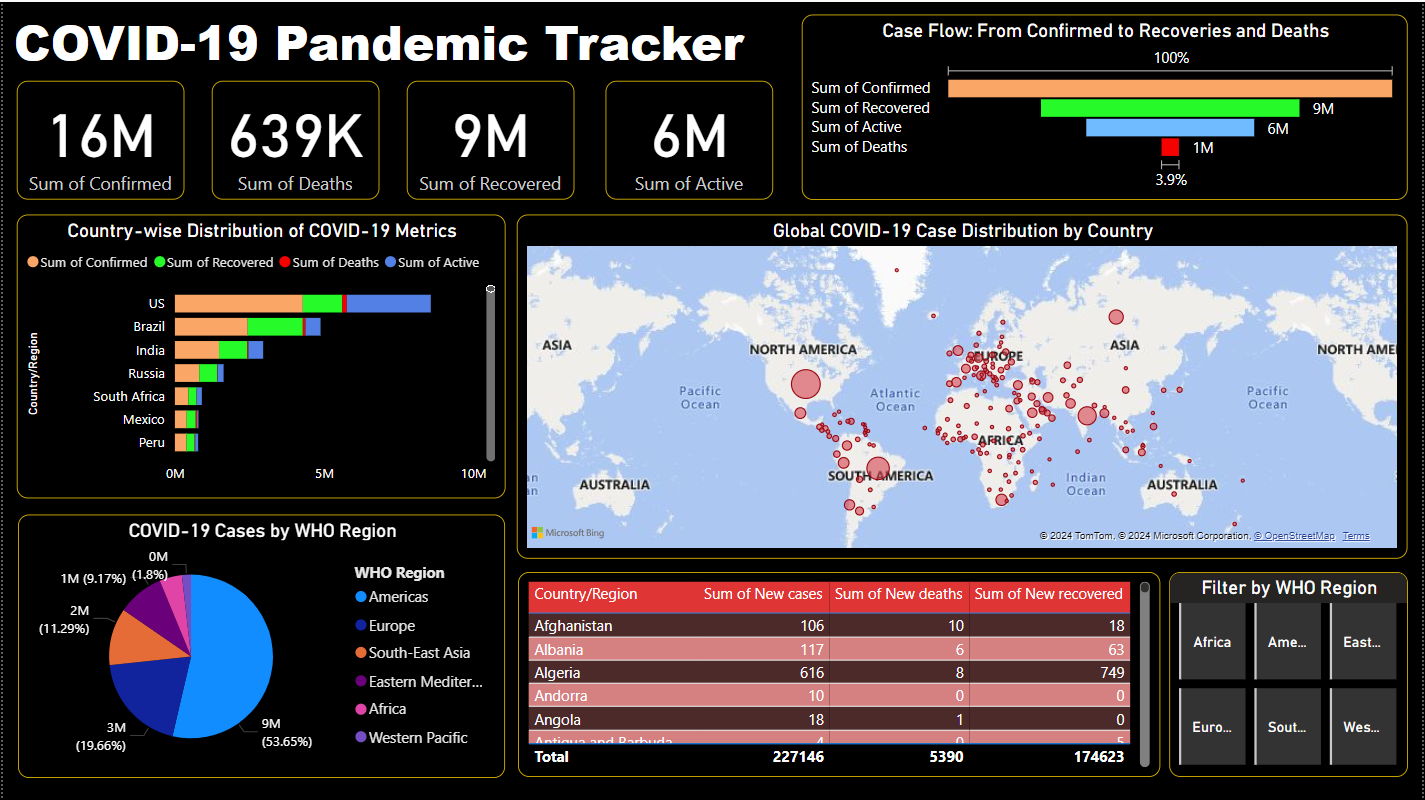

The dashboard page shown, as its layout file describes it:
{"tool":"powerbi","page":{"name":"Page 1","canvas":[1280,720],"ordinal":0},"visuals":[{"type":"textbox","box":[0,0,677.4,70.9],"z":0},{"type":"card","fields":{"Values":["Sum(country_wise_latest.Confirmed)"]},"box":[12.5,71.1,150.8,107.2],"z":1000},{"type":"card","fields":{"Values":["Sum(country_wise_latest.Deaths)"]},"box":[188.2,71.1,150.8,107.2],"z":2000},{"type":"card","fields":{"Values":["Sum(country_wise_latest.Recovered)"]},"box":[364,71.1,150.8,107.2],"z":3000},{"type":"card","fields":{"Values":["Sum(country_wise_latest.Active)"]},"box":[543.5,71.1,150.8,107.2],"z":4000},{"type":"map","title":"Global COVID-19 Case Distribution by Country","fields":{"Category":["country_wise_latest.Country/Region"],"Size":["Sum(country_wise_latest.Confirmed)"]},"box":[463.5,192,803.4,310.6],"z":5000},{"type":"barChart","title":"Country-wise Distribution of COVID-19 Metrics","fields":{"Category":["country_wise_latest.Country/Region"],"Y":["Sum(country_wise_latest.Confirmed)","Sum(country_wise_latest.Recovered)","Sum(country_wise_latest.Deaths)","Sum(country_wise_latest.Active)"]},"box":[12.8,191.9,440.7,255.8],"z":6000},{"type":"pieChart","title":"COVID-19 Cases by WHO Region","fields":{"Category":["country_wise_latest.WHO Region"],"Y":["Sum(country_wise_latest.Confirmed)"]},"box":[14,461.6,439.5,237.2],"z":7000},{"type":"tableEx","fields":{"Values":["country_wise_latest.Country/Region","Sum(country_wise_latest.New cases)","Sum(country_wise_latest.New deaths)","Sum(country_wise_latest.New recovered)"]},"box":[464,514,579.1,184.9],"z":8000},{"type":"funnel","title":"Case Flow: From Confirmed to Recoveries and Deaths","fields":{"Y":["Sum(country_wise_latest.Confirmed)","Sum(country_wise_latest.Recovered)","Sum(country_wise_latest.Active)","Sum(country_wise_latest.Deaths)"]},"box":[720.2,11,546.6,167.5],"z":9000},{"type":"advancedSlicerVisual","title":"Filter by WHO Region","fields":{"Values":["country_wise_latest.WHO Region"]},"box":[1051.2,514,215.1,184.9],"z":10000}]}

Visuals, with their boxes in screenshot pixels (x1, y1, x2, y2), scaled from the page's 1280x720 canvas onto the 1425x800 screenshot:
textbox: region(0, 0, 754, 79)
card - Sum(country_wise_latest.Confirmed): region(14, 79, 182, 198)
card - Sum(country_wise_latest.Deaths): region(210, 79, 377, 198)
card - Sum(country_wise_latest.Recovered): region(405, 79, 573, 198)
card - Sum(country_wise_latest.Active): region(605, 79, 773, 198)
"Global COVID-19 Case Distribution by Country" map: region(516, 213, 1410, 558)
"Country-wise Distribution of COVID-19 Metrics" barChart: region(14, 213, 505, 497)
"COVID-19 Cases by WHO Region" pieChart: region(16, 513, 505, 776)
tableEx - country_wise_latest.Country/Region x Sum(country_wise_latest.New cases): region(517, 571, 1161, 777)
"Case Flow: From Confirmed to Recoveries and Deaths" funnel: region(802, 12, 1410, 198)
"Filter by WHO Region" advancedSlicerVisual: region(1170, 571, 1410, 777)
